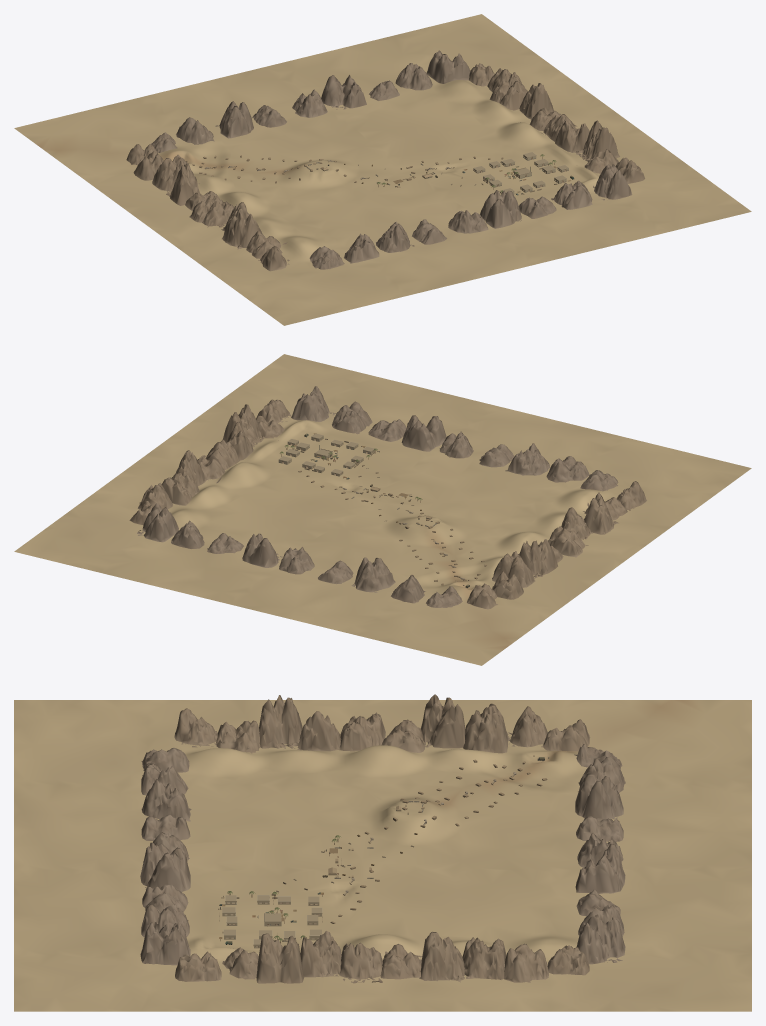
The picture shows the model from 3 angles, top to bottom: view 1: azimuth 30°, elevation 25°; view 2: azimuth 150°, elevation 25°; view 3: azimuth 270°, elevation 25°; orthographic projection. The views are drawn at different scales.
Visible parts, largest first — view 1: tile-6-road-sand-0-0, tile-5-road-sand-0-0, tile-0-road-sand-0-0, tile-9-road-sand-0-0, tile-1-road-sand-0-0, tile-8-road-sand-0-0, tile-2-road-sand-0-0, tile-4-road-sand-0-0, tile-12-road-sand-0-0, tile-13-road-sand-0-0, tile-14-road-sand-0-0, tile-10-road-sand-0-0 (+21 smaller); view 2: tile-6-road-sand-0-0, tile-5-road-sand-0-0, tile-0-road-sand-0-0, tile-9-road-sand-0-0, tile-1-road-sand-0-0, tile-2-road-sand-0-0, tile-10-road-sand-0-0, tile-8-road-sand-0-0, tile-4-road-sand-0-0, tile-12-road-sand-0-0, tile-3-road-sand-0-0, tile-13-road-sand-0-0 (+24 smaller); view 3: tile-5-road-sand-0-0, tile-6-road-sand-0-0, tile-0-road-sand-0-0, tile-9-road-sand-0-0, tile-1-road-sand-0-0, tile-2-road-sand-0-0, tile-12-road-sand-0-0, tile-13-road-sand-0-0, tile-14-road-sand-0-0, tile-4-road-sand-0-0, tile-3-road-sand-0-0, tile-8-road-sand-0-0 (+29 smaller).
Boxes of the visible parts, left/top/right/bottom form: tile-6-road-sand-0-0: left=343, top=84, right=543, bottom=173; tile-5-road-sand-0-0: left=215, top=120, right=415, bottom=204; tile-0-road-sand-0-0: left=14, top=97, right=214, bottom=181; tile-9-road-sand-0-0: left=289, top=174, right=489, bottom=254; tile-1-road-sand-0-0: left=142, top=66, right=342, bottom=152; tile-8-road-sand-0-0: left=161, top=205, right=349, bottom=289; tile-2-road-sand-0-0: left=270, top=35, right=469, bottom=119; tile-4-road-sand-0-0: left=88, top=153, right=288, bottom=235; tile-12-road-sand-0-0: left=235, top=261, right=411, bottom=325; tile-13-road-sand-0-0: left=365, top=228, right=538, bottom=294; tile-14-road-sand-0-0: left=490, top=198, right=666, bottom=263; tile-10-road-sand-0-0: left=417, top=141, right=608, bottom=227; tile-6-road-sand-0-0: left=173, top=462, right=373, bottom=549; tile-5-road-sand-0-0: left=303, top=496, right=500, bottom=582; tile-0-road-sand-0-0: left=354, top=583, right=554, bottom=665; tile-9-road-sand-0-0: left=374, top=446, right=561, bottom=526; tile-1-road-sand-0-0: left=227, top=551, right=427, bottom=634; tile-2-road-sand-0-0: left=99, top=514, right=299, bottom=603; tile-10-road-sand-0-0: left=248, top=413, right=442, bottom=495; tile-8-road-sand-0-0: left=502, top=476, right=702, bottom=557; tile-4-road-sand-0-0: left=428, top=527, right=628, bottom=611; tile-12-road-sand-0-0: left=585, top=437, right=751, bottom=503; tile-3-road-sand-0-0: left=14, top=498, right=145, bottom=572; tile-13-road-sand-0-0: left=456, top=406, right=623, bottom=466; tile-5-road-sand-0-0: left=349, top=785, right=550, bottom=869; tile-6-road-sand-0-0: left=349, top=870, right=550, bottom=954; tile-0-road-sand-0-0: left=550, top=700, right=751, bottom=787; tile-9-road-sand-0-0: left=148, top=785, right=349, bottom=869; tile-1-road-sand-0-0: left=550, top=785, right=751, bottom=869; tile-2-road-sand-0-0: left=550, top=870, right=751, bottom=954; tile-12-road-sand-0-0: left=14, top=700, right=148, bottom=784; tile-13-road-sand-0-0: left=14, top=785, right=148, bottom=869; tile-14-road-sand-0-0: left=14, top=870, right=146, bottom=954; tile-4-road-sand-0-0: left=349, top=700, right=550, bottom=787; tile-3-road-sand-0-0: left=550, top=949, right=751, bottom=1011; tile-8-road-sand-0-0: left=148, top=700, right=349, bottom=784.
Size of the model in its own units: 704 by 46.61 by 704.
